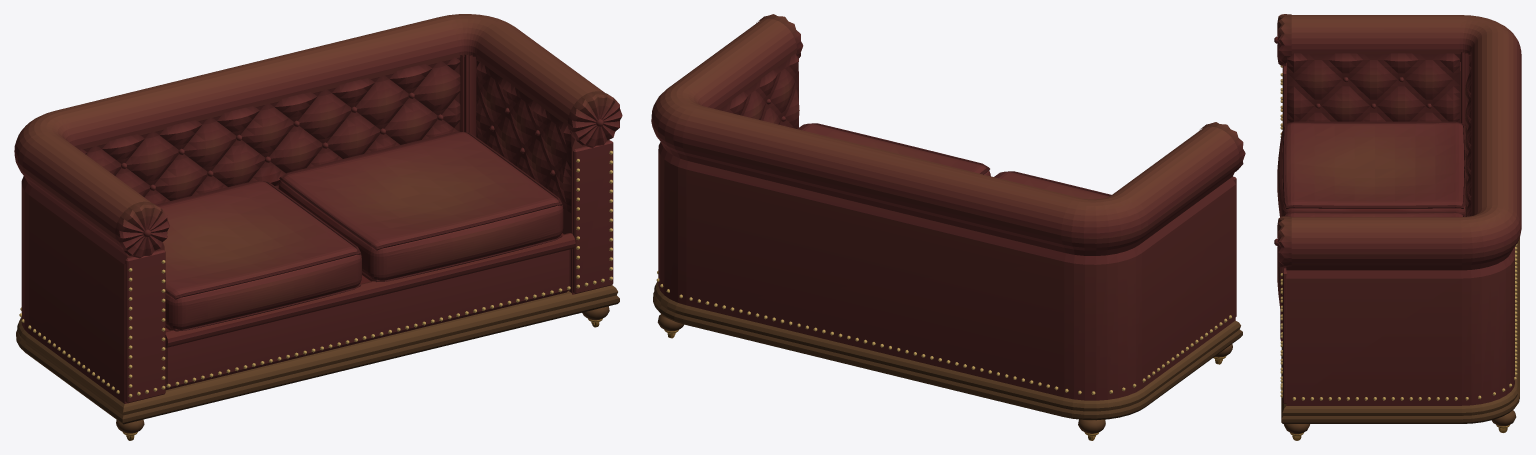
Rendered from chesterfield_sofa.glb.
3 renders of one model, left to right at view 1: azimuth 30°, elevation 25°; view 2: azimuth 150°, elevation 25°; view 3: azimuth 270°, elevation 25°, orthographic. The views are drawn at different scales.
Parts seen in each view (by area): view 1: chesterfield_sofa; view 2: chesterfield_sofa; view 3: chesterfield_sofa.
Part boxes in pixels (x1,y1,x2,y2): chesterfield_sofa: [14, 14, 622, 440]; chesterfield_sofa: [651, 14, 1245, 440]; chesterfield_sofa: [1274, 14, 1521, 440].
Bounding box in the file's own units: 2.01 × 0.9138 × 0.9354.
